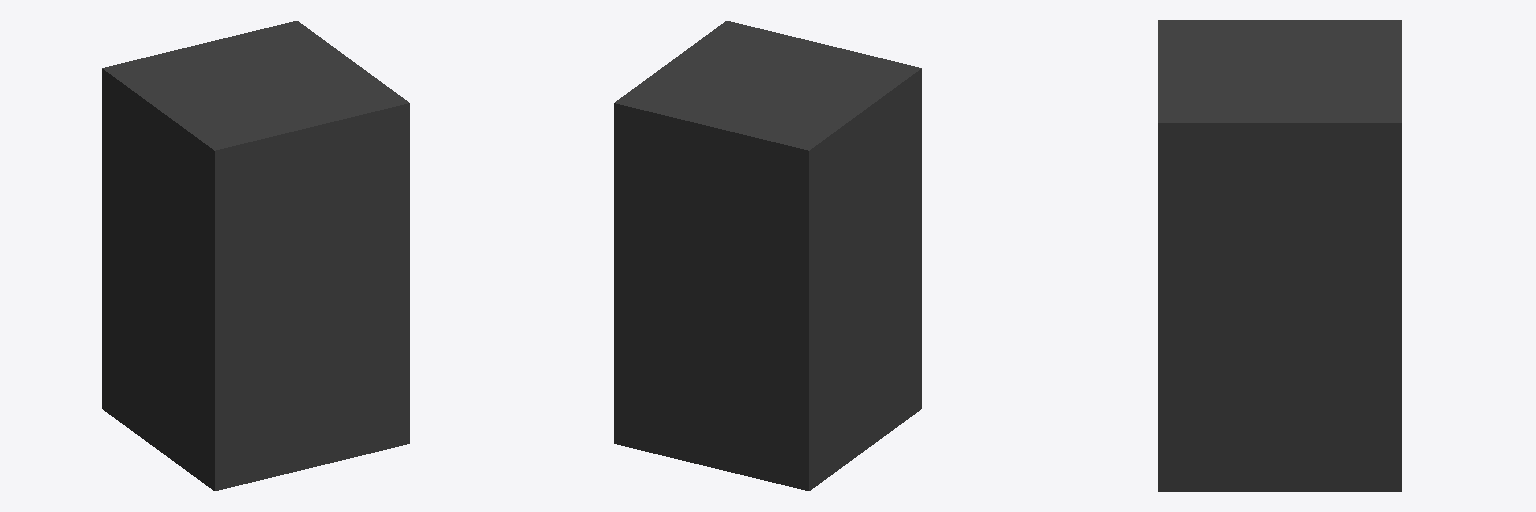
robot.urdf — pedestal:
<?xml version="1.0"?>
<!--
  Plain box pedestal — generic primitive, no vendored content, same
  category as ground.urdf. 0.3x0.3m footprint, 0.5m tall: UR10 mounted on
  top, matching a typical pedestal-mount installation rather than
  floor-bolted (which is what "arm base at z=0" was implicitly, and
  incorrectly, modeling).
-->
<robot name="pedestal">
  <link name="pedestal_base">
    <visual>
      <geometry>
        <box size="0.3 0.3 0.5"/>
      </geometry>
      <origin xyz="0 0 0.25"/>
      <material name="DarkGray">
        <color rgba="0.3 0.3 0.3 1.0"/>
      </material>
    </visual>
    <collision>
      <geometry>
        <box size="0.3 0.3 0.5"/>
      </geometry>
      <origin xyz="0 0 0.25"/>
    </collision>
  </link>
</robot>

--- Facts derived from the render (not from the file) ---
Views: 3 orthographic renders of the robot side by side, from view 1: azimuth 30°, elevation 25°; view 2: azimuth 150°, elevation 25°; view 3: azimuth 270°, elevation 25°.
Model pedestal with 1 links and 0 joints (none), rooted at pedestal_base, posed every joint at zero.
Visible links, largest first — view 1: pedestal_base; view 2: pedestal_base; view 3: pedestal_base.
Link boxes in pixels (x1=…): pedestal_base: x1=102, y1=21, x2=409, y2=490; pedestal_base: x1=614, y1=21, x2=921, y2=490; pedestal_base: x1=1158, y1=20, x2=1401, y2=491.
Bounding box of the posed robot: 0.3 × 0.3 × 0.5 m (x, y, z).
Geometry: primitives only (box / cylinder / sphere), no mesh files.
